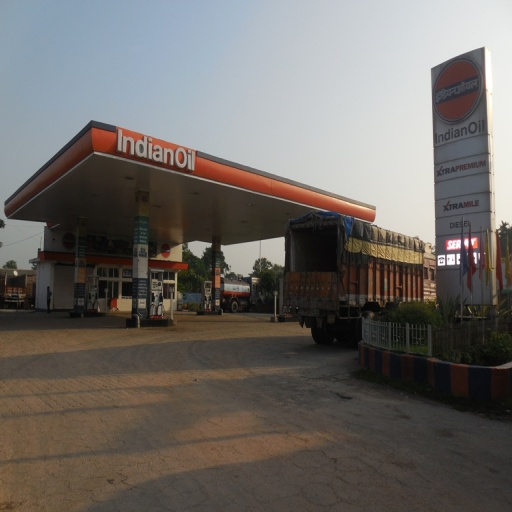roof: (2, 120, 375, 248)
